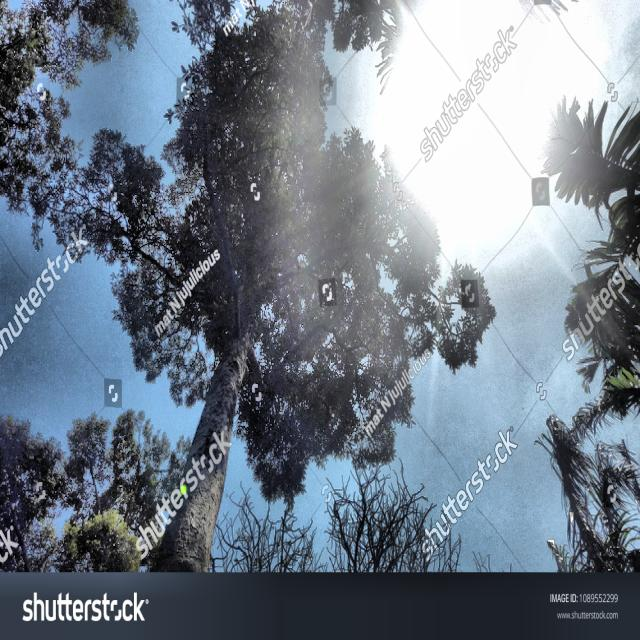arvore: (138, 237, 272, 569)
